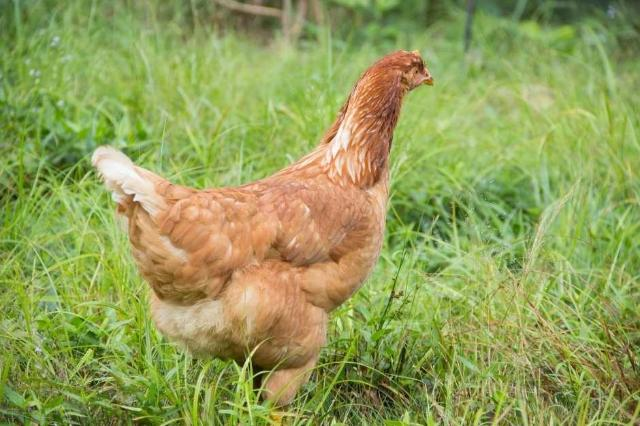Chicken: (93, 49, 434, 406)
